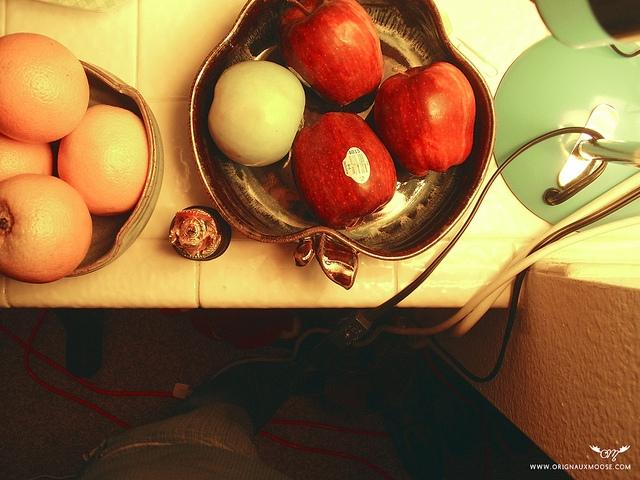apple: (290, 112, 398, 230), (374, 61, 476, 177), (275, 0, 385, 107), (208, 61, 306, 166)
orange: (56, 104, 148, 216), (0, 174, 93, 284), (0, 33, 89, 144), (1, 133, 54, 181)
